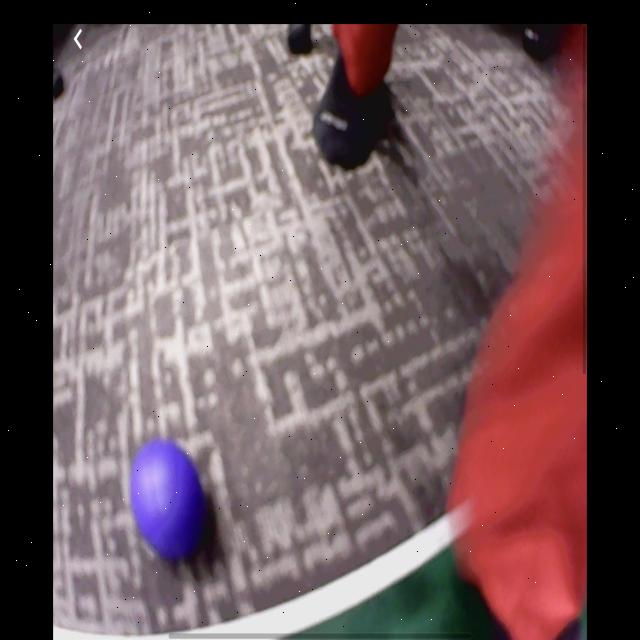ball: (134, 439, 205, 563)
